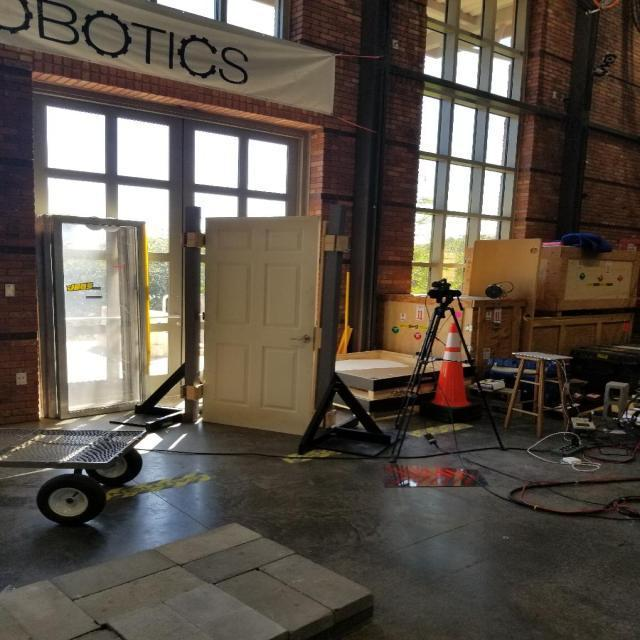door: (200, 214, 323, 439), (289, 332, 310, 343)
